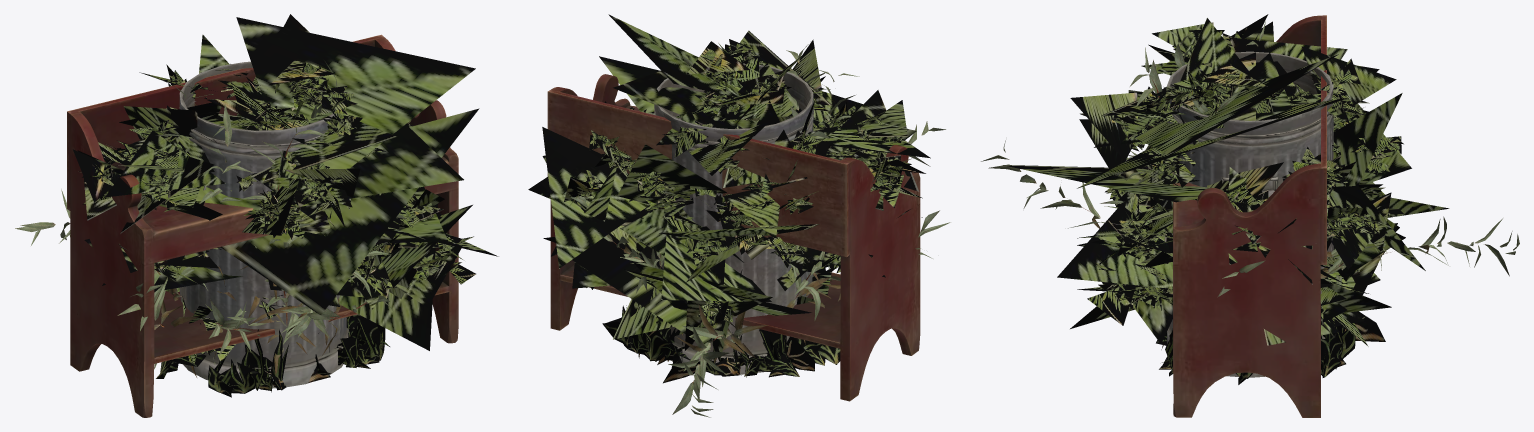
Rendered from props.glb.
The picture shows the model from 3 angles, left to right: view 1: azimuth 30°, elevation 25°; view 2: azimuth 150°, elevation 25°; view 3: azimuth 270°, elevation 25°; orthographic projection. The views are drawn at different scales.
Visible parts, largest first — view 1: tree_lo, bench, trashcan, tree_hi, shrub_2, grass_1, shrub_3, grass_0, shrub_1, grass_3, shrub_0, grass_2 (+1 smaller); view 2: tree_lo, bench, tree_hi, trashcan, shrub_2, drygrass_2, drygrass_1, shrub_3, grass_1, grass_2, drygrass_0, shrub_0; view 3: tree_lo, bench, tree_hi, trashcan, shrub_2, drygrass_2, shrub_3, grass_2.
Boxes of the visible parts, left/top/right/bottom form: tree_lo: left=73, top=14, right=498, bottom=365; bench: left=67, top=34, right=458, bottom=417; trashcan: left=179, top=61, right=348, bottom=388; tree_hi: left=78, top=62, right=475, bottom=362; shrub_2: left=15, top=104, right=340, bottom=377; grass_1: left=208, top=315, right=385, bottom=397; shrub_3: left=154, top=119, right=392, bottom=374; grass_0: left=245, top=320, right=366, bottom=390; shrub_1: left=208, top=60, right=336, bottom=364; grass_3: left=239, top=323, right=384, bottom=385; shrub_0: left=156, top=85, right=406, bottom=323; grass_2: left=184, top=318, right=363, bottom=393; tree_lo: left=528, top=14, right=930, bottom=362; bench: left=547, top=74, right=920, bottom=401; tree_hi: left=542, top=39, right=911, bottom=328; trashcan: left=654, top=63, right=813, bottom=374; shrub_2: left=668, top=69, right=950, bottom=417; drygrass_2: left=631, top=330, right=825, bottom=383; drygrass_1: left=607, top=305, right=822, bottom=377; shrub_3: left=562, top=44, right=830, bottom=344; grass_1: left=627, top=332, right=793, bottom=377; grass_2: left=623, top=305, right=790, bottom=369; drygrass_0: left=602, top=321, right=840, bottom=364; shrub_0: left=636, top=91, right=830, bottom=298; tree_lo: left=1003, top=14, right=1449, bottom=346; bench: left=1173, top=15, right=1326, bottom=417; tree_hi: left=1087, top=27, right=1403, bottom=331; trashcan: left=1166, top=51, right=1333, bottom=377; shrub_2: left=981, top=30, right=1519, bottom=297; drygrass_2: left=1162, top=311, right=1385, bottom=362; shrub_3: left=1129, top=47, right=1387, bottom=308; grass_2: left=1170, top=332, right=1343, bottom=377.
Size of the model in its own units: 1.37 by 1.06 by 1.74.
Materials: 9 (9 with a texture image).
